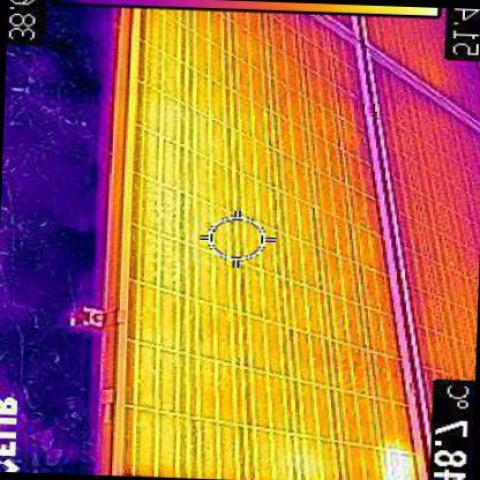fault: (374, 445, 408, 476)
